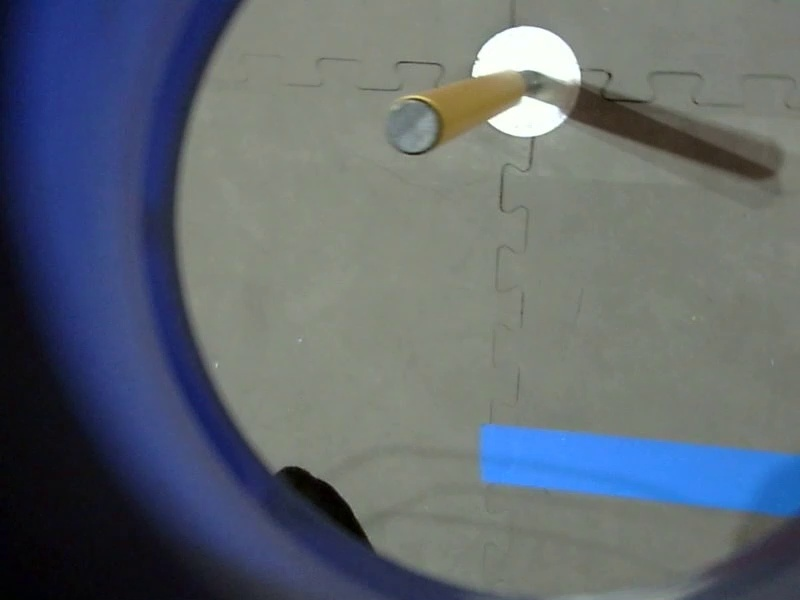tip: (384, 88, 452, 159)
